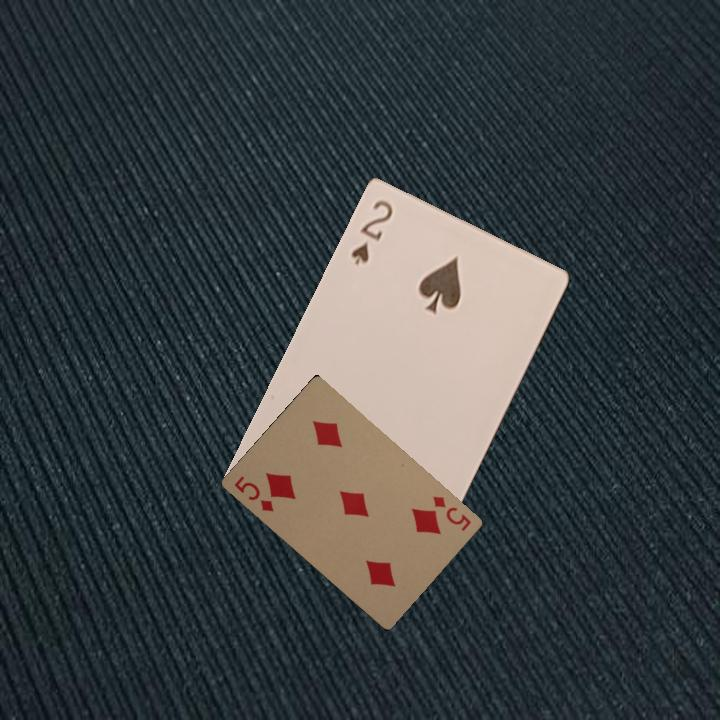2s: (347, 196, 396, 268)
5d: (230, 472, 276, 514), (428, 492, 474, 533)
